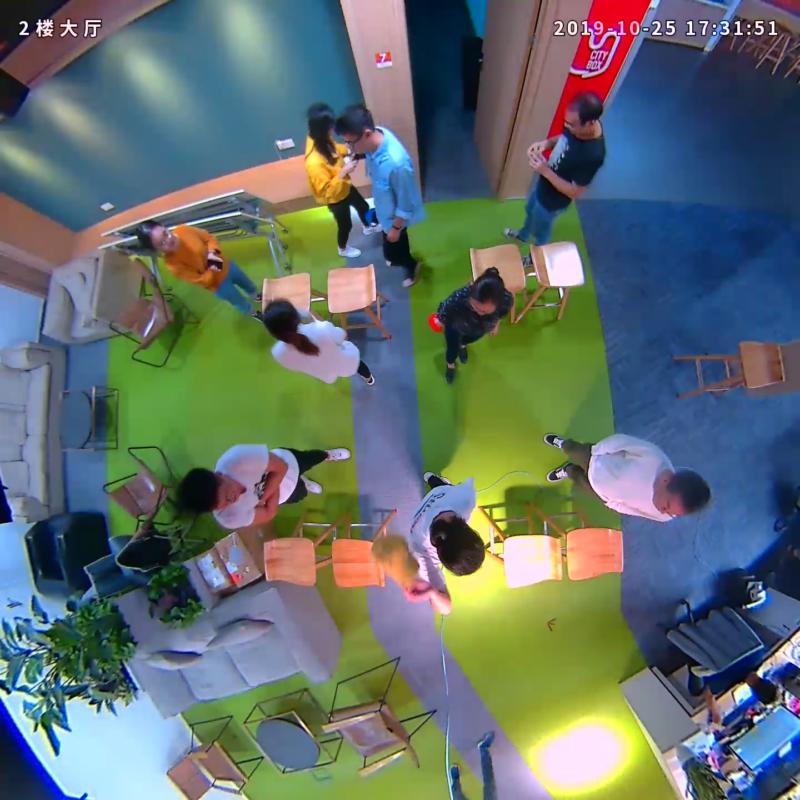head: (651, 467, 710, 519), (435, 519, 486, 577), (179, 468, 242, 512), (335, 106, 376, 154), (563, 90, 603, 135), (264, 298, 301, 341), (470, 275, 504, 318), (134, 220, 179, 251), (306, 102, 335, 140)
